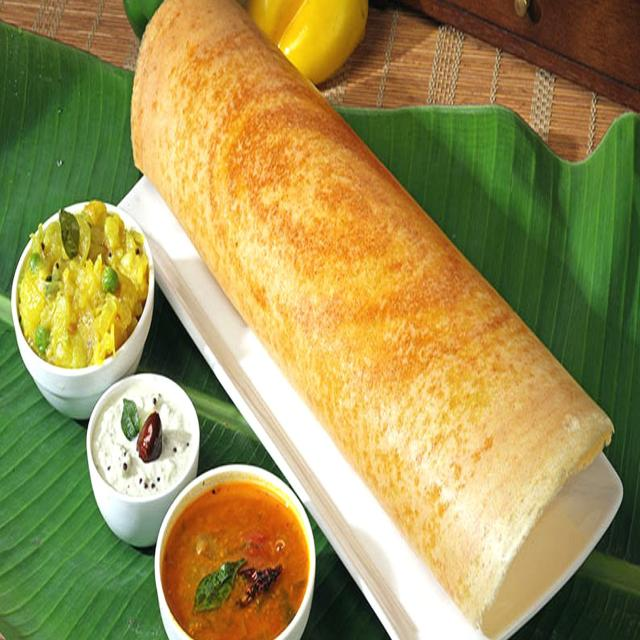plain dosa: (131, 0, 614, 613)
